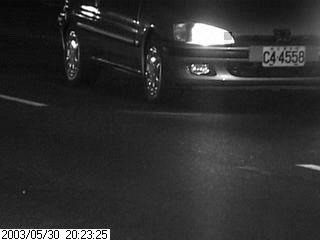plate: (262, 44, 306, 68)
